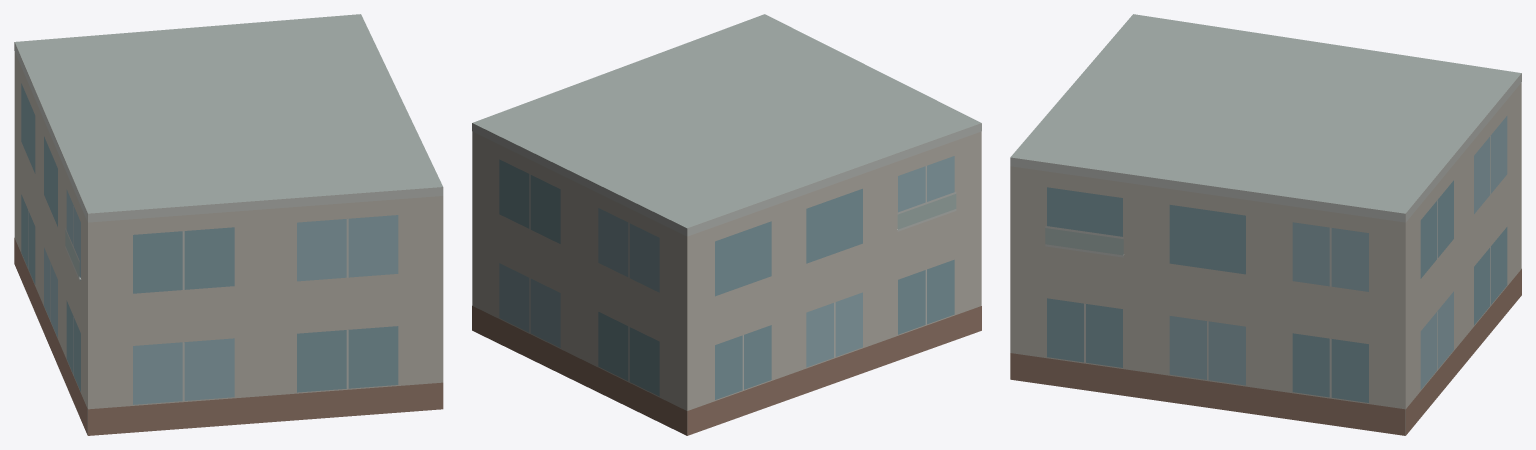
Rendered from survey-upis-32536019.glb.
3 renders of one model, left to right at view 1: azimuth 30°, elevation 25°; view 2: azimuth 150°, elevation 25°; view 3: azimuth 270°, elevation 25°, orthographic. The views are drawn at different scales.
Visible parts, largest first — view 1: survey-upis-32536019.tmp; view 2: survey-upis-32536019.tmp; view 3: survey-upis-32536019.tmp.
Part boxes in pixels (x1,y1,x2,y2): survey-upis-32536019.tmp: [14, 14, 443, 435]; survey-upis-32536019.tmp: [472, 14, 981, 435]; survey-upis-32536019.tmp: [1010, 14, 1521, 435].
Size of the model in its own units: 11.77 by 6.1 by 12.74.
